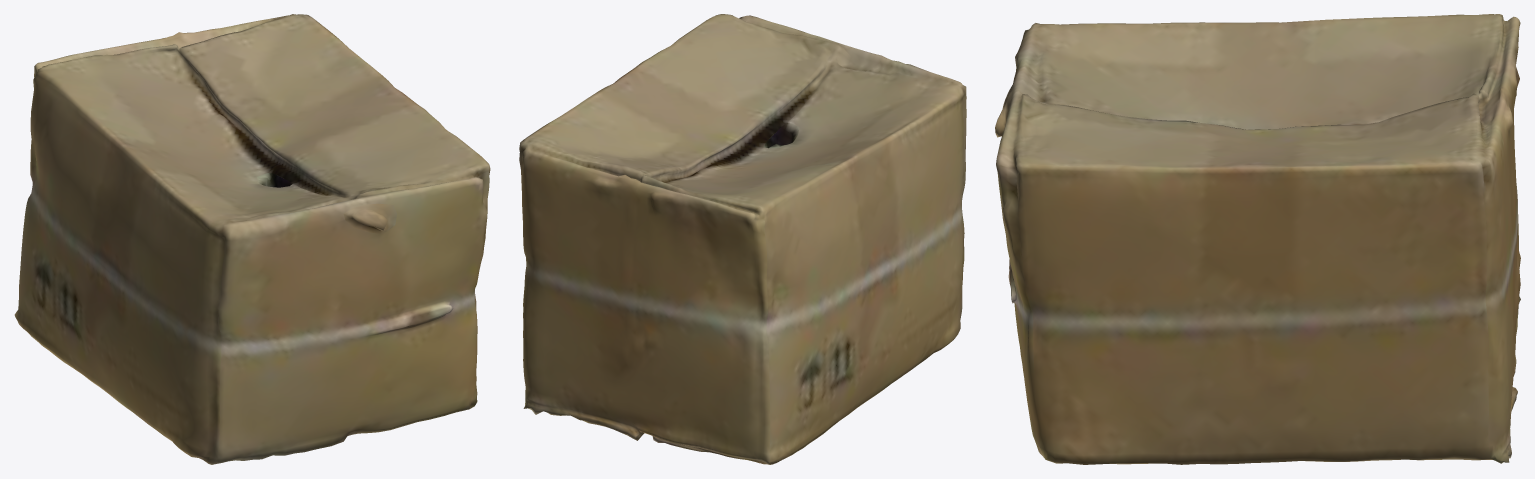
The model's file is cardboard_box.glb.
3 renders of one model, left to right at view 1: azimuth 30°, elevation 25°; view 2: azimuth 150°, elevation 25°; view 3: azimuth 270°, elevation 25°, orthographic. The views are drawn at different scales.
Visible parts, largest first — view 1: cardboard_box_01; view 2: cardboard_box_01; view 3: cardboard_box_01.
Part boxes in pixels (box(x1,y1,x2,y2)): cardboard_box_01: box(14, 14, 490, 464); cardboard_box_01: box(519, 14, 966, 464); cardboard_box_01: box(995, 14, 1520, 464).
Bounding box in the file's own units: 0.387 × 0.3418 × 0.5159.
Materials: 1 (1 with a texture image).
